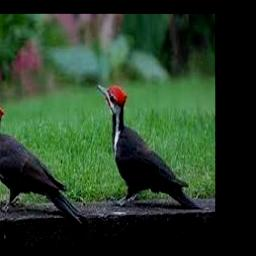Woodpecker: (96, 84, 200, 208), (0, 101, 85, 223)
